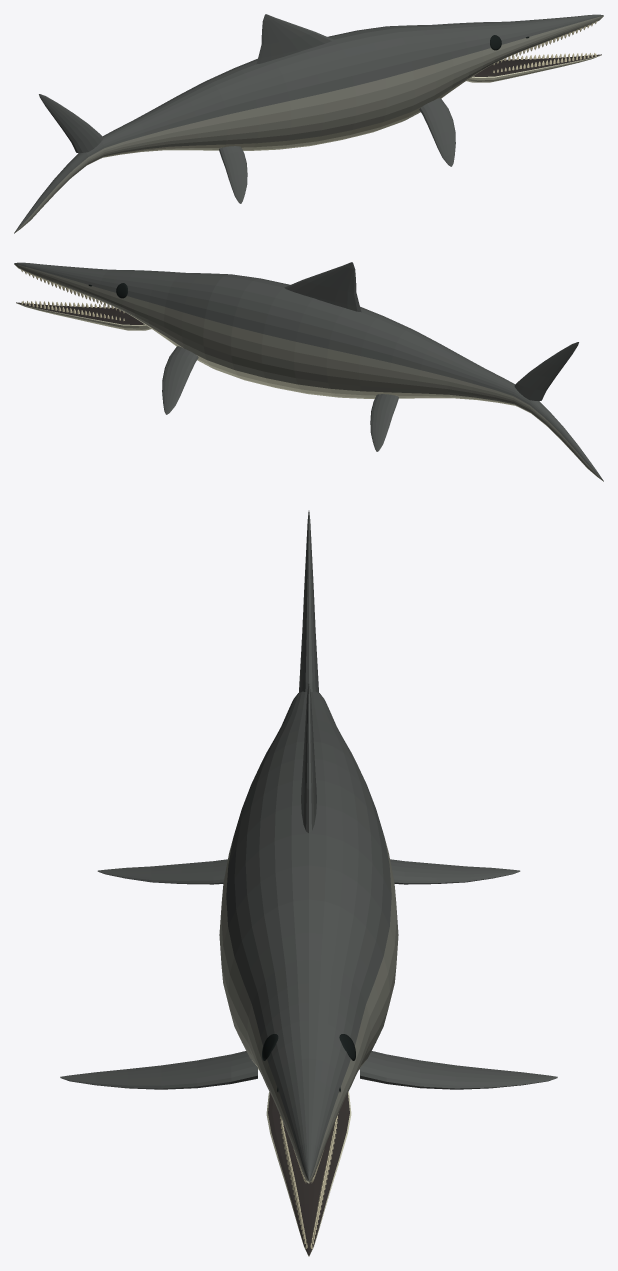
3 views of the same model, one above another, from view 1: azimuth 30°, elevation 25°; view 2: azimuth 150°, elevation 25°; view 3: azimuth 270°, elevation 25° (orthographic). The views are drawn at different scales.
Parts seen in each view (by area): view 1: Deep_body_upper_skull_and_downturned_tail_axis, Modest_inferred_swept_dorsal_fin, Robust_lower_jaw_open_twelve_degrees, Inferred_upper_caudal_membrane, Long_forepaddle_near, Substantial_hindpaddle_near, 112_simplified_broad_based_cutting_crowns; view 2: Deep_body_upper_skull_and_downturned_tail_axis, Modest_inferred_swept_dorsal_fin, Robust_lower_jaw_open_twelve_degrees, Inferred_upper_caudal_membrane, Long_forepaddle_far, Substantial_hindpaddle_far, 112_simplified_broad_based_cutting_crowns; view 3: Deep_body_upper_skull_and_downturned_tail_axis, Long_forepaddle_near, Long_forepaddle_far, Robust_lower_jaw_open_twelve_degrees, Substantial_hindpaddle_far, Substantial_hindpaddle_near, Inferred_upper_caudal_membrane, Modest_inferred_swept_dorsal_fin, 112_simplified_broad_based_cutting_crowns.
Part boxes in pixels (x1,y1,x2,y2): Deep_body_upper_skull_and_downturned_tail_axis: (14, 14, 603, 233); Modest_inferred_swept_dorsal_fin: (256, 14, 333, 64); Robust_lower_jaw_open_twelve_degrees: (466, 54, 601, 82); Inferred_upper_caudal_membrane: (39, 94, 103, 153); Long_forepaddle_near: (419, 98, 455, 166); Substantial_hindpaddle_near: (219, 146, 247, 203); 112_simplified_broad_based_cutting_crowns: (493, 21, 596, 72); Deep_body_upper_skull_and_downturned_tail_axis: (14, 262, 603, 481); Modest_inferred_swept_dorsal_fin: (284, 262, 361, 312); Robust_lower_jaw_open_twelve_degrees: (16, 302, 151, 330); Inferred_upper_caudal_membrane: (514, 342, 578, 401); Long_forepaddle_far: (162, 346, 198, 414); Substantial_hindpaddle_far: (370, 394, 398, 451); 112_simplified_broad_based_cutting_crowns: (21, 269, 124, 320); Deep_body_upper_skull_and_downturned_tail_axis: (219, 691, 398, 1183); Long_forepaddle_near: (60, 1051, 257, 1089); Long_forepaddle_far: (360, 1051, 557, 1089); Robust_lower_jaw_open_twelve_degrees: (266, 1092, 351, 1256); Substantial_hindpaddle_far: (390, 859, 520, 884); Substantial_hindpaddle_near: (97, 859, 227, 884); Inferred_upper_caudal_membrane: (299, 510, 318, 692); Modest_inferred_swept_dorsal_fin: (301, 682, 316, 832); 112_simplified_broad_based_cutting_crowns: (279, 1113, 338, 1248).
Size of the model in its own units: 6.83 by 1.75 by 2.49.
